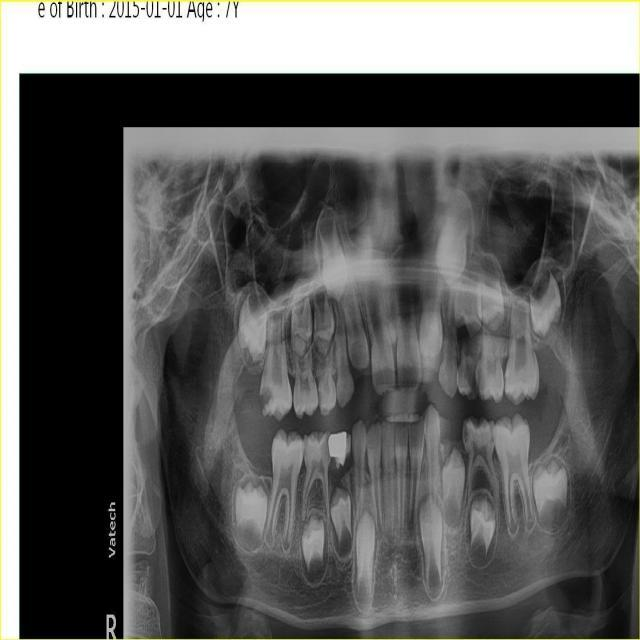NucleOSS Implant: (326, 429, 348, 461)
Sterngold Implant: (258, 383, 277, 418), (466, 361, 479, 394), (473, 366, 488, 390), (320, 432, 329, 461), (462, 420, 472, 445), (318, 387, 324, 407)
